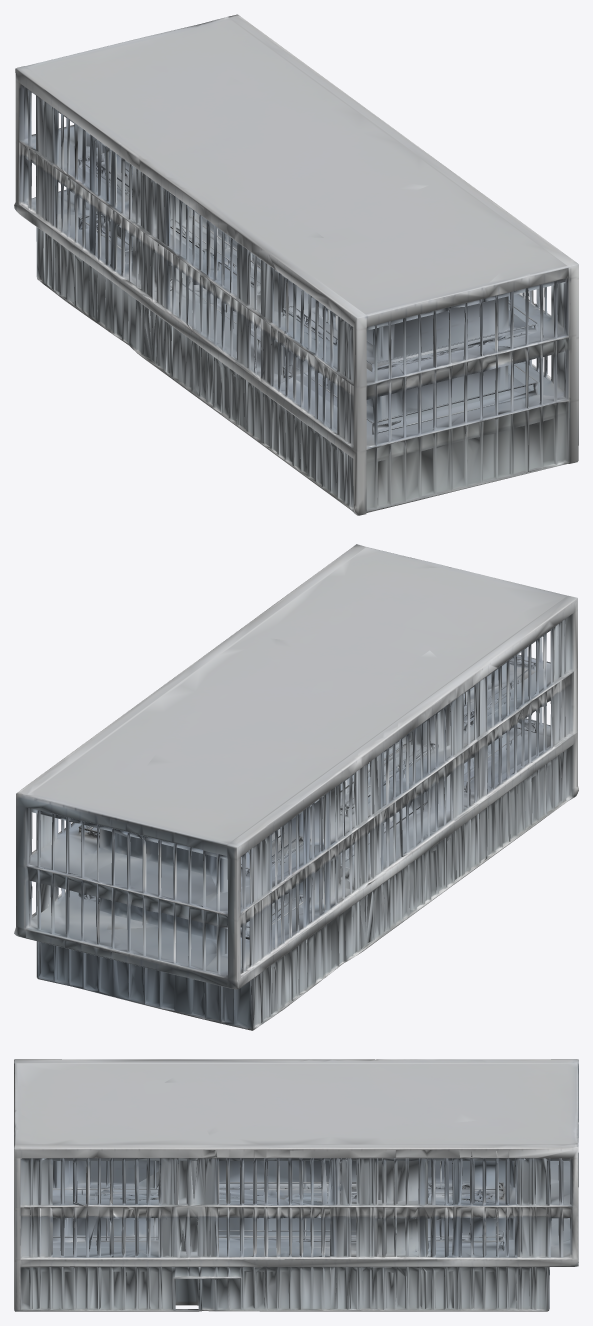
3 renders of one model, top to bottom at view 1: azimuth 30°, elevation 25°; view 2: azimuth 150°, elevation 25°; view 3: azimuth 270°, elevation 25°, orthographic. The views are drawn at different scales.
Parts seen in each view (by area): view 1: node_0; view 2: node_0; view 3: node_0.
Boxes of the visible parts, box(x1,y1,x2,y2) form: node_0: box(14, 14, 578, 515); node_0: box(14, 544, 578, 1030); node_0: box(14, 1059, 578, 1311).
Bounding box in the file's own units: 0.4098 × 0.3455 × 1.08.
1 material, 1 textured.
